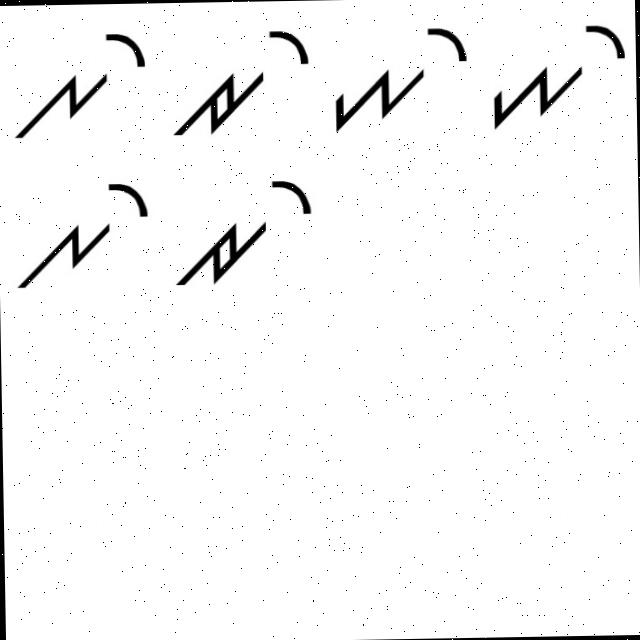lay: (8, 21, 150, 150), (12, 170, 157, 296)
ray: (166, 16, 313, 148), (166, 164, 316, 290)
yay: (324, 24, 473, 147), (484, 20, 630, 134)
